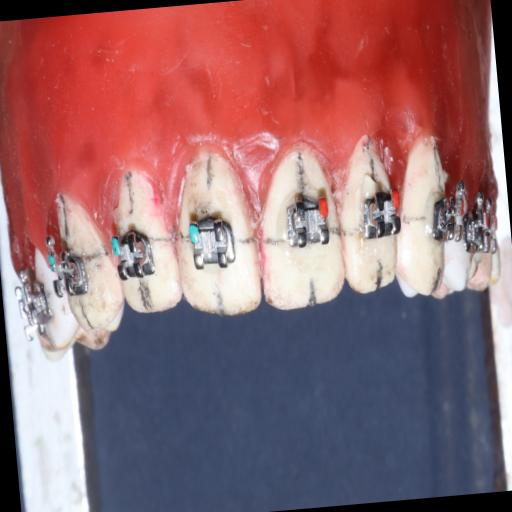correct_brace: (184, 212, 238, 274)
incorrect_brace: (280, 190, 334, 254)
